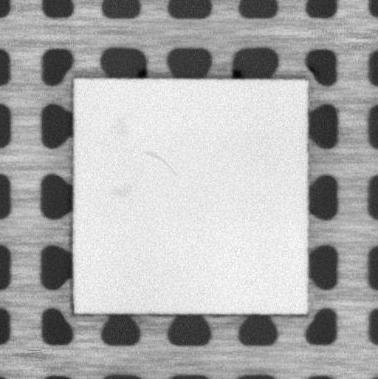DIE_CRACK: (143, 149, 178, 175)
